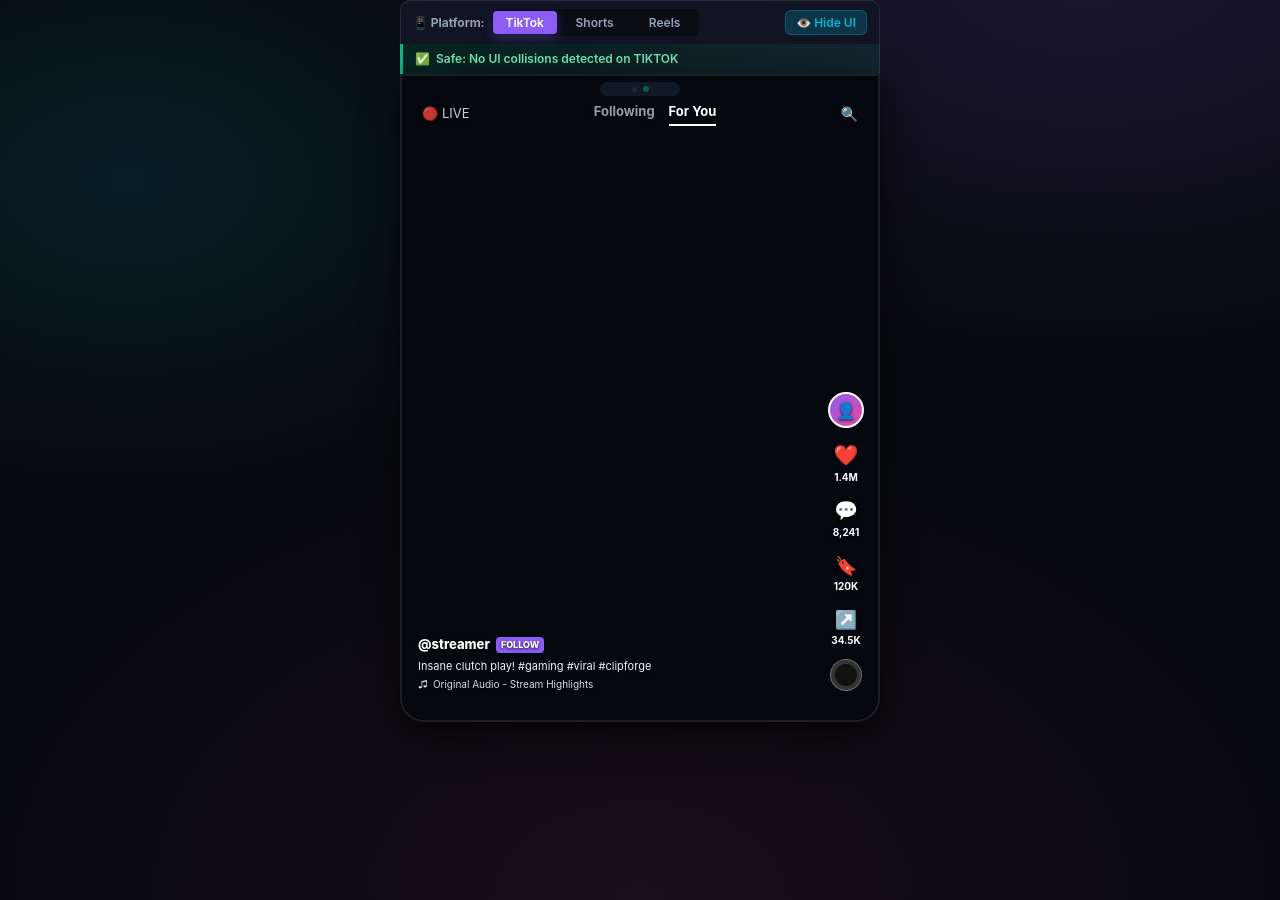
Test: Empirical Challenge Suite: Milestone M4 (Montage Timeline & Phone Simulator) › Section 5: Phone Simulator Component Stress Tests › renders pixel-accurate overlays for all 3 platforms via platform tab buttons
Expected: the element with test id "top-tabs-tiktok" is shown, [414, 102, 866, 126]
Expected: the element with test id "action-rail-tiktok" is shown, [826, 386, 866, 696]
Click the button with test id "platform-tab-shorts": (595, 22) [563, 11, 627, 34]
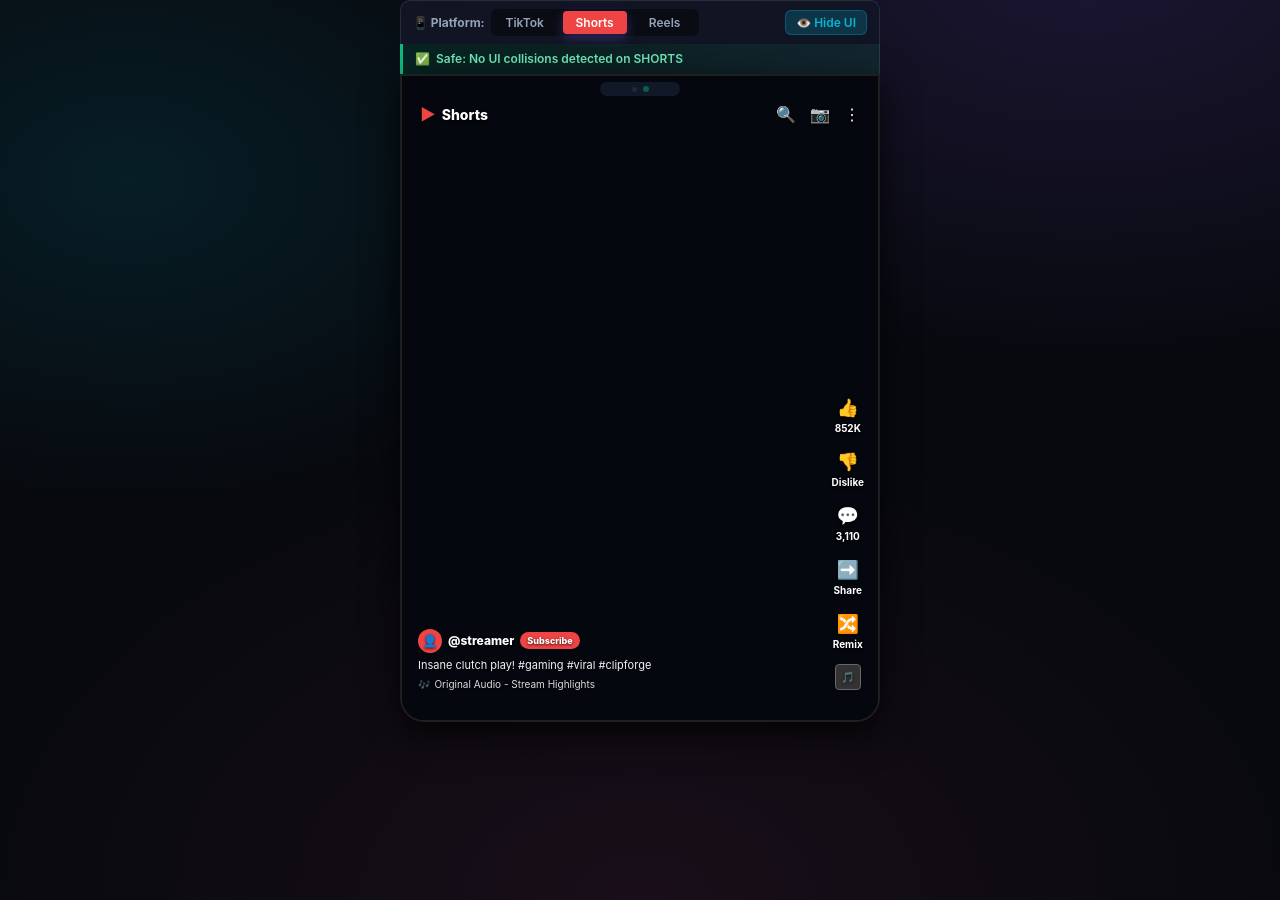
Result: the element with test id "top-nav-shorts" is shown at [414, 102, 866, 126]
Result: the element with test id "action-rail-shorts" is shown at [830, 388, 866, 696]
Result: the element with test id "bottom-meta-shorts" is shown at [418, 629, 651, 690]
Click the button with test id "platform-tab-reels": (665, 22) [633, 11, 697, 34]
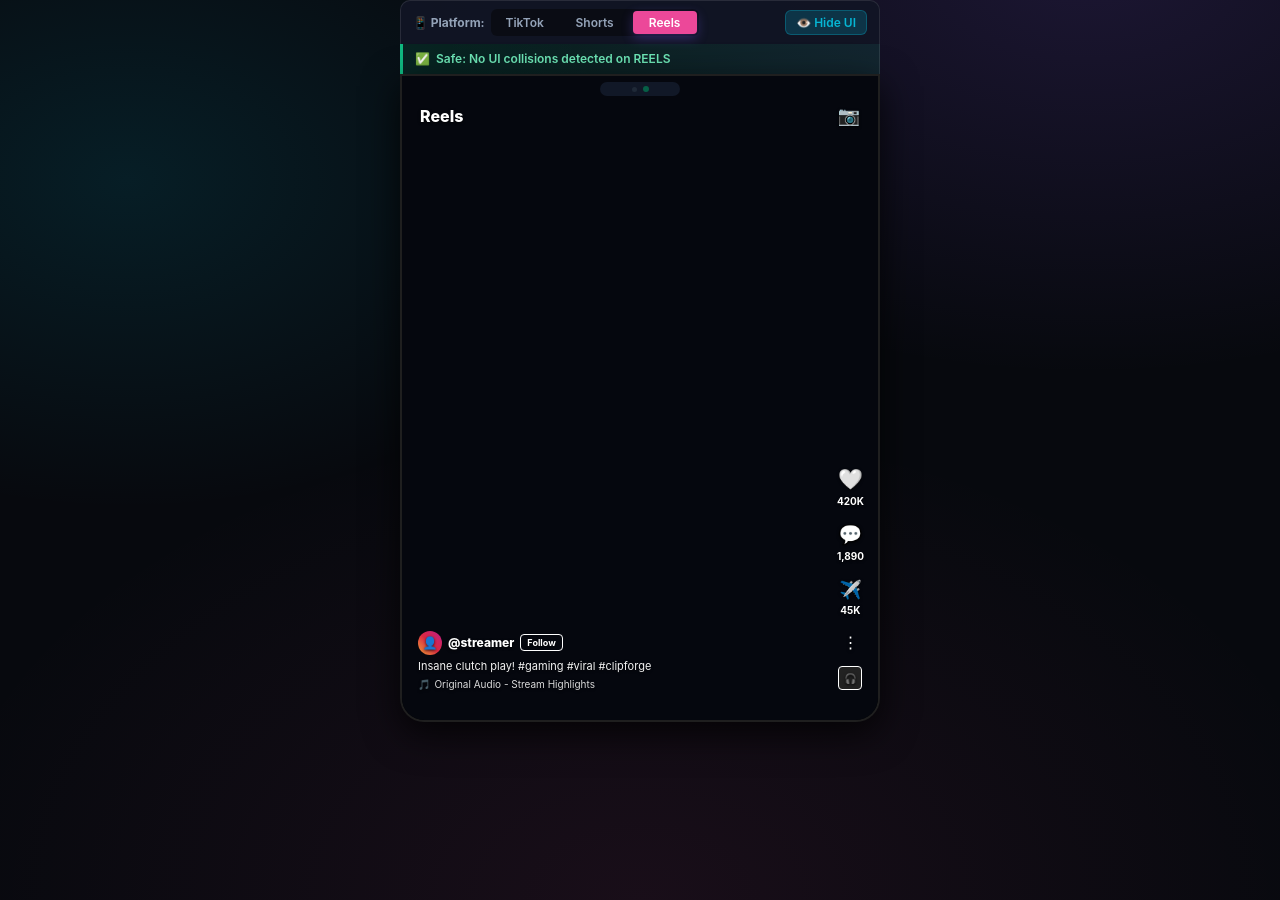
Result: the element with test id "top-nav-reels" is shown at [414, 102, 866, 129]
Result: the element with test id "action-rail-reels" is shown at [835, 458, 866, 696]
Result: the element with test id "bottom-meta-reels" is shown at [418, 631, 651, 690]
